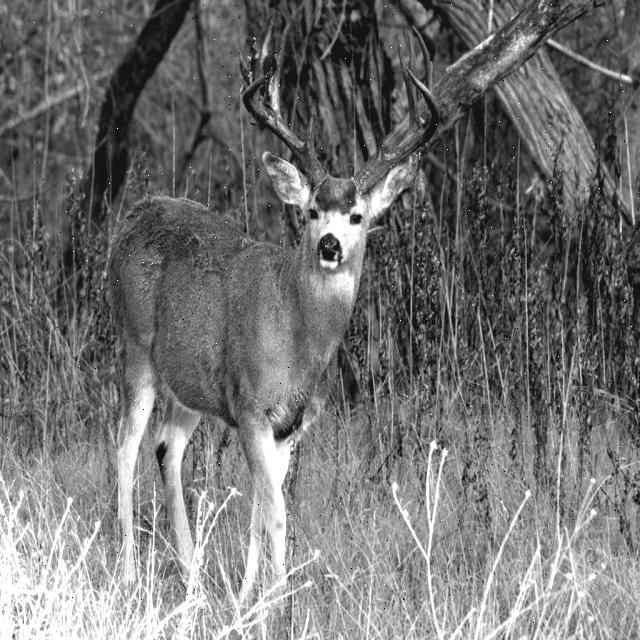deer: (245, 112, 432, 287)
